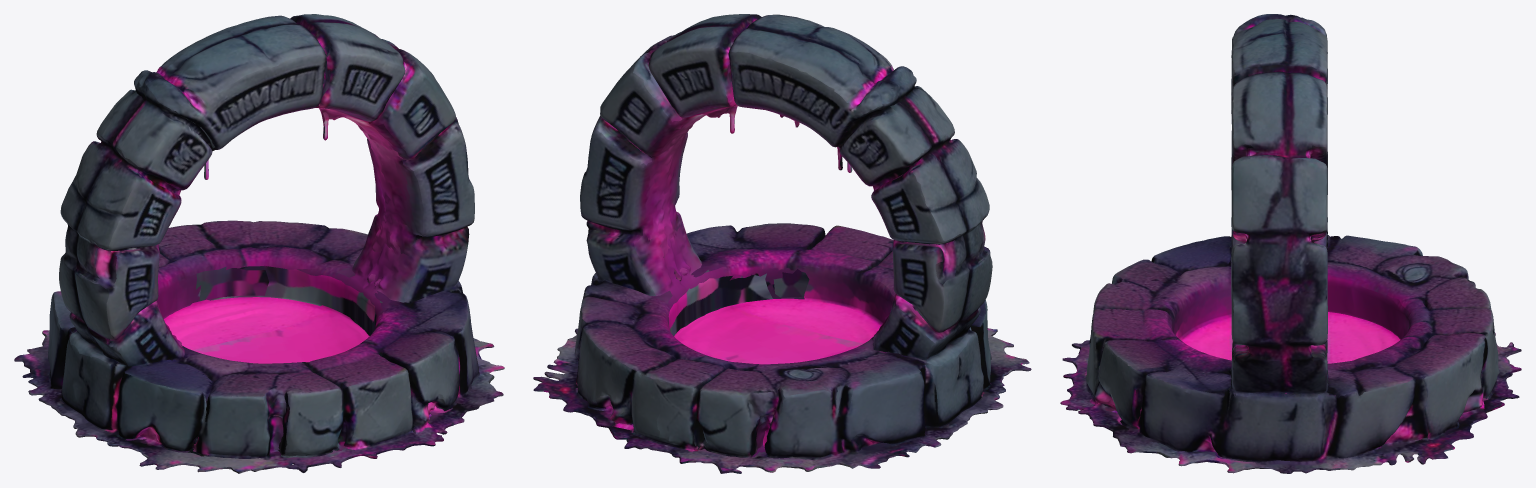
File: hvergelmir-basin-ring-generated-2026-05-17T18-10-36-665Z.high.glb
3 views of the same model, side by side, from view 1: azimuth 30°, elevation 25°; view 2: azimuth 150°, elevation 25°; view 3: azimuth 270°, elevation 25° (orthographic). The views are drawn at different scales.
Visible parts, largest first — view 1: temp_mesh.ply; view 2: temp_mesh.ply; view 3: temp_mesh.ply.
Boxes of the visible parts, x1,y1,x2,y2 form: temp_mesh.ply: (14,14,504,473); temp_mesh.ply: (533,14,1031,473); temp_mesh.ply: (1060,14,1521,473).
Size of the model in its own units: 1.95 by 1.58 by 1.97.
Materials: 1 (1 with a texture image).
